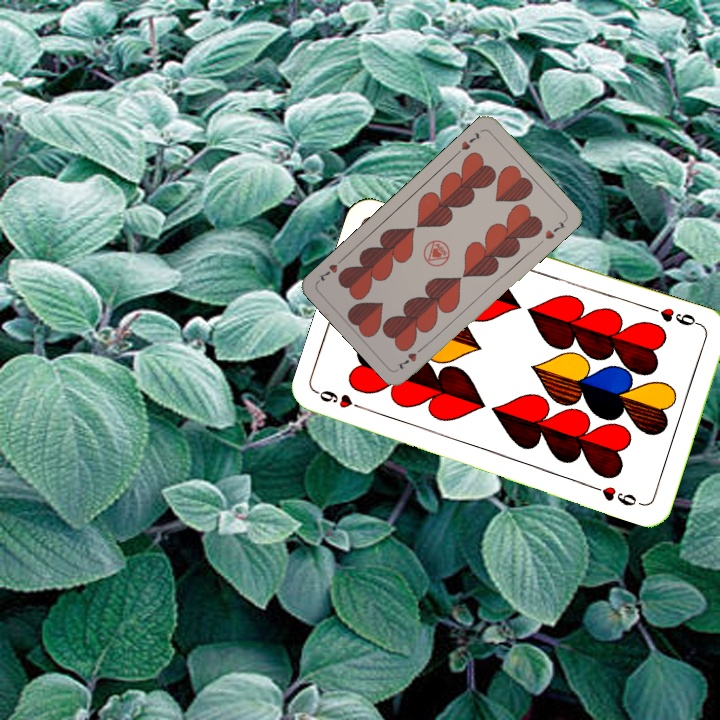H7: (394, 342, 428, 372), (452, 128, 484, 158)
H9: (314, 386, 372, 414), (647, 303, 704, 329)
